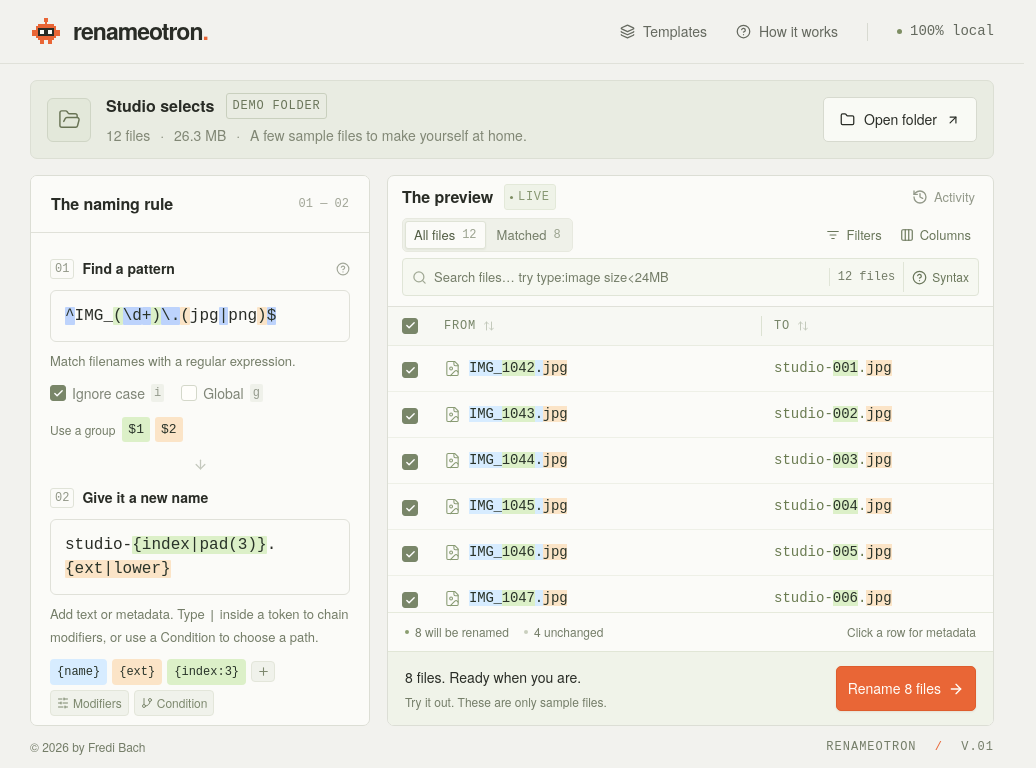
Scenario: renameotron workspace › loads a shared link in an already-open tab without resetting file selection
Step 1. Click the checkbox named "Select IMG_1042.jpg" → click(410, 370), box 402,362 -> 418,378
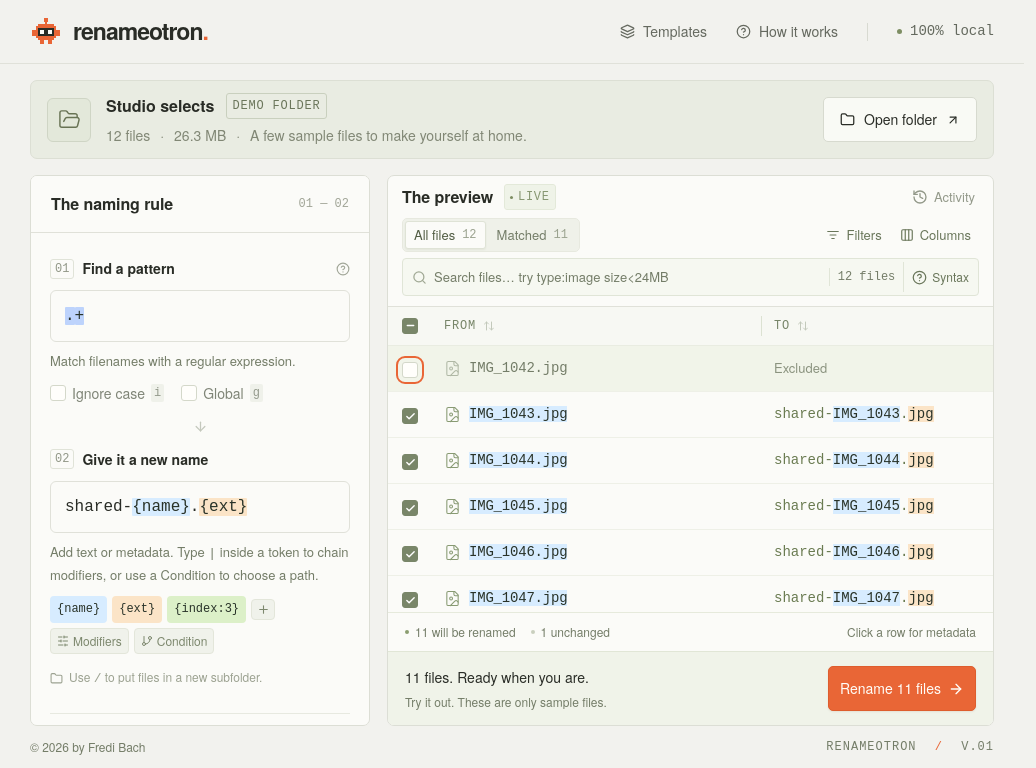
expect the text box labelled "Find a pattern" holds ".+": met, box 51,291 -> 349,341
expect the dropdown labelled "Give it a new name" holds "shared-{name}.{ext}": met, box 51,482 -> 349,532
expect the text "Excluded" is shown: met, box 774,358 -> 827,376
